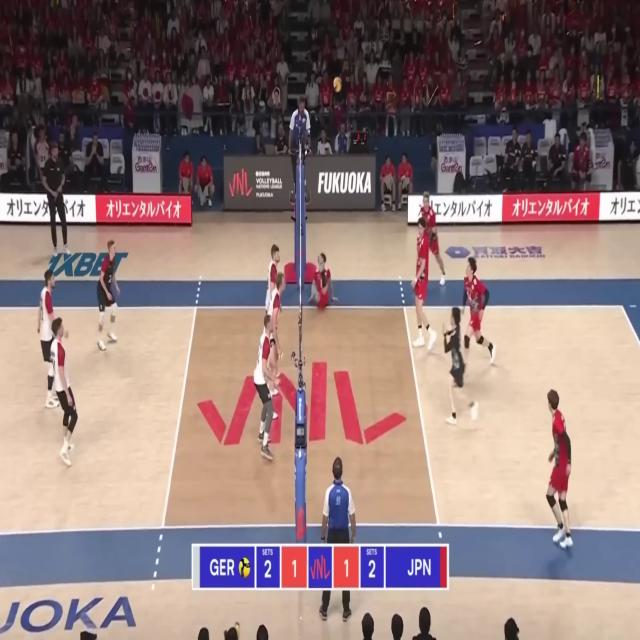referee: (319, 456, 356, 621)
team_one: (50, 314, 80, 468), (37, 268, 61, 406), (254, 314, 277, 458), (96, 240, 120, 352), (264, 273, 284, 392), (264, 243, 280, 334)
team_two: (544, 387, 574, 549), (442, 306, 478, 428), (462, 256, 496, 366), (413, 218, 437, 354), (415, 191, 445, 289), (309, 252, 338, 310)
